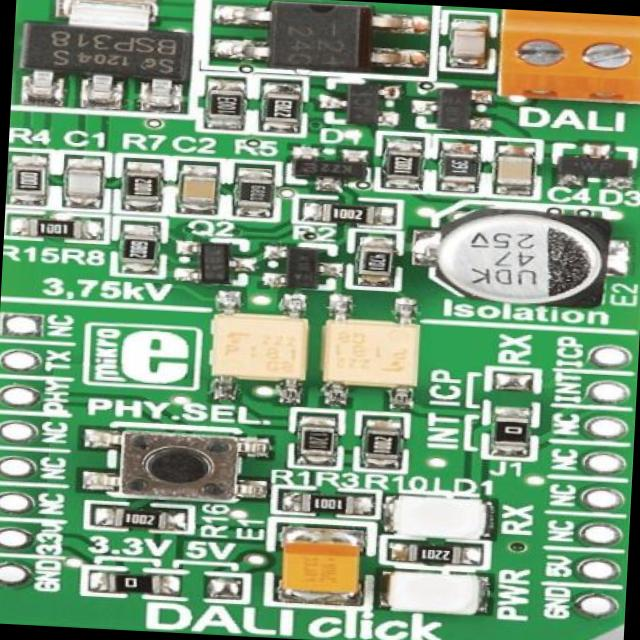IC: (18, 0, 185, 109), (210, 0, 429, 74), (204, 297, 314, 398), (319, 307, 422, 397)
LED: (384, 572, 494, 622), (383, 495, 502, 541)
capacitor: (418, 206, 632, 314), (278, 530, 364, 604), (61, 156, 108, 206), (448, 20, 492, 70), (174, 168, 222, 212), (492, 150, 535, 190)
connector: (498, 10, 640, 108)
resistor: (290, 203, 397, 230), (288, 418, 344, 466), (352, 422, 407, 468), (396, 540, 472, 569), (90, 571, 174, 595), (357, 244, 400, 286), (292, 493, 370, 516), (104, 506, 174, 530), (235, 172, 275, 212), (120, 225, 154, 272), (19, 221, 94, 239), (495, 416, 529, 455), (126, 170, 160, 208), (267, 90, 299, 130), (386, 146, 420, 182), (209, 90, 244, 124), (17, 160, 46, 201), (443, 148, 475, 184)
transistor: (274, 238, 344, 293), (556, 146, 632, 194), (334, 84, 408, 130), (424, 86, 486, 136), (294, 152, 369, 192), (187, 238, 244, 284)
